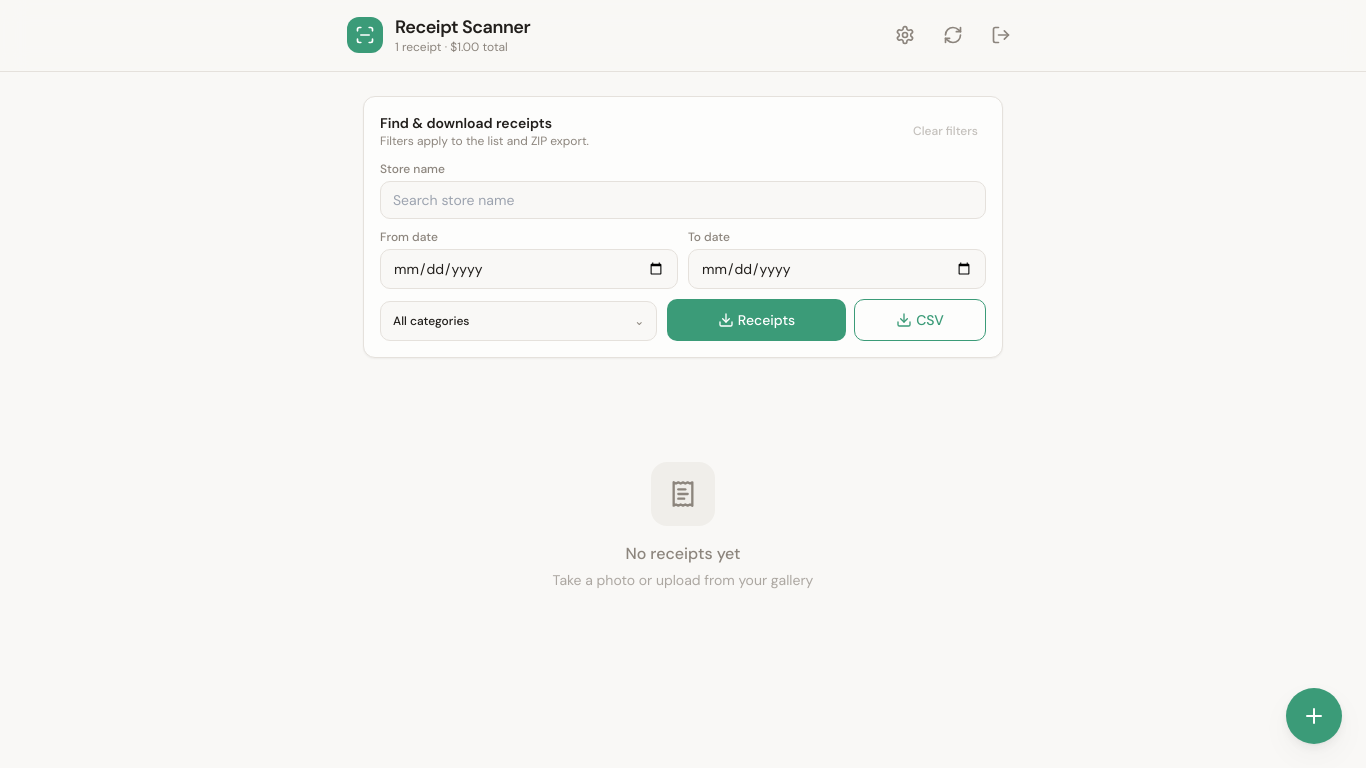
Test: Index receipt filters and export › uses a compact category dropdown for the shared filter
Click the heading named "Filter receipt categories" at (431, 320), box [380,300,657,340]
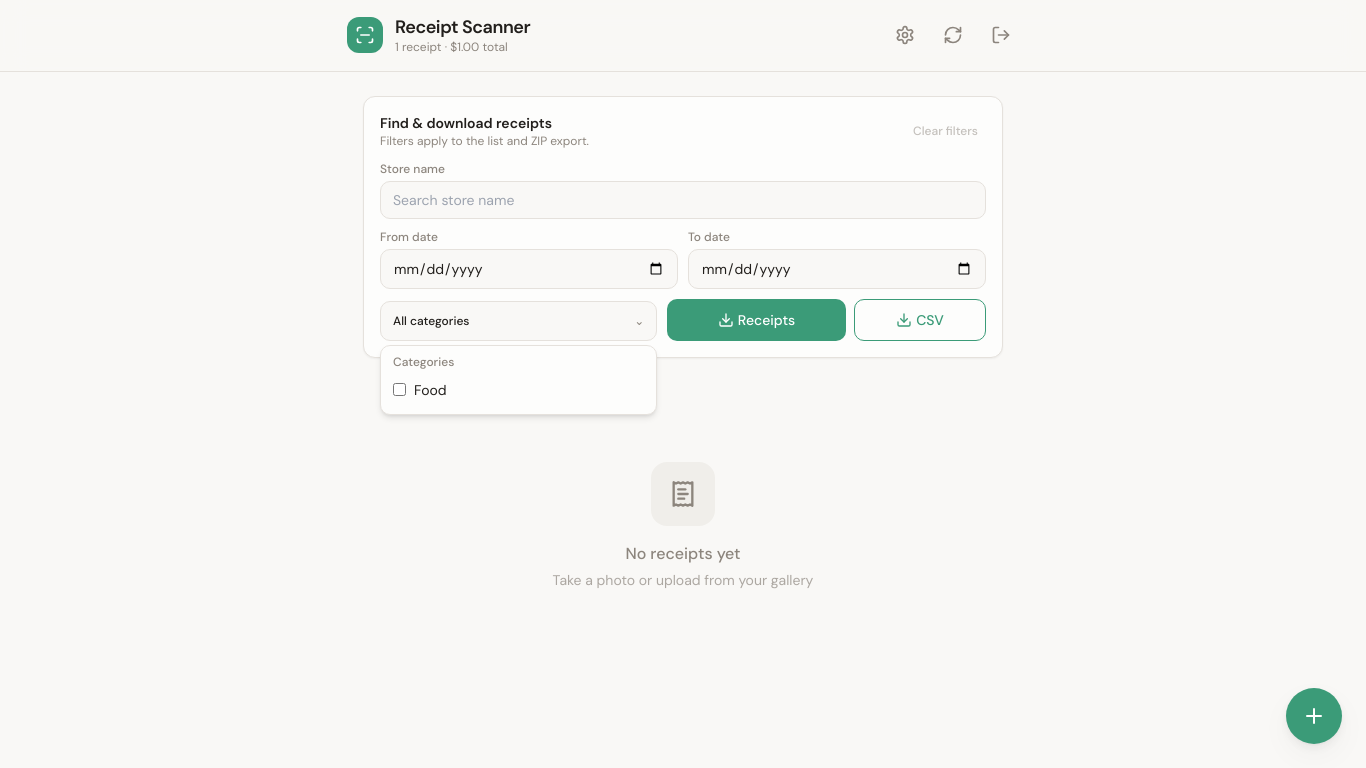
Click the checkbox labelled "Food" at (400, 390), box [393,383,406,396]
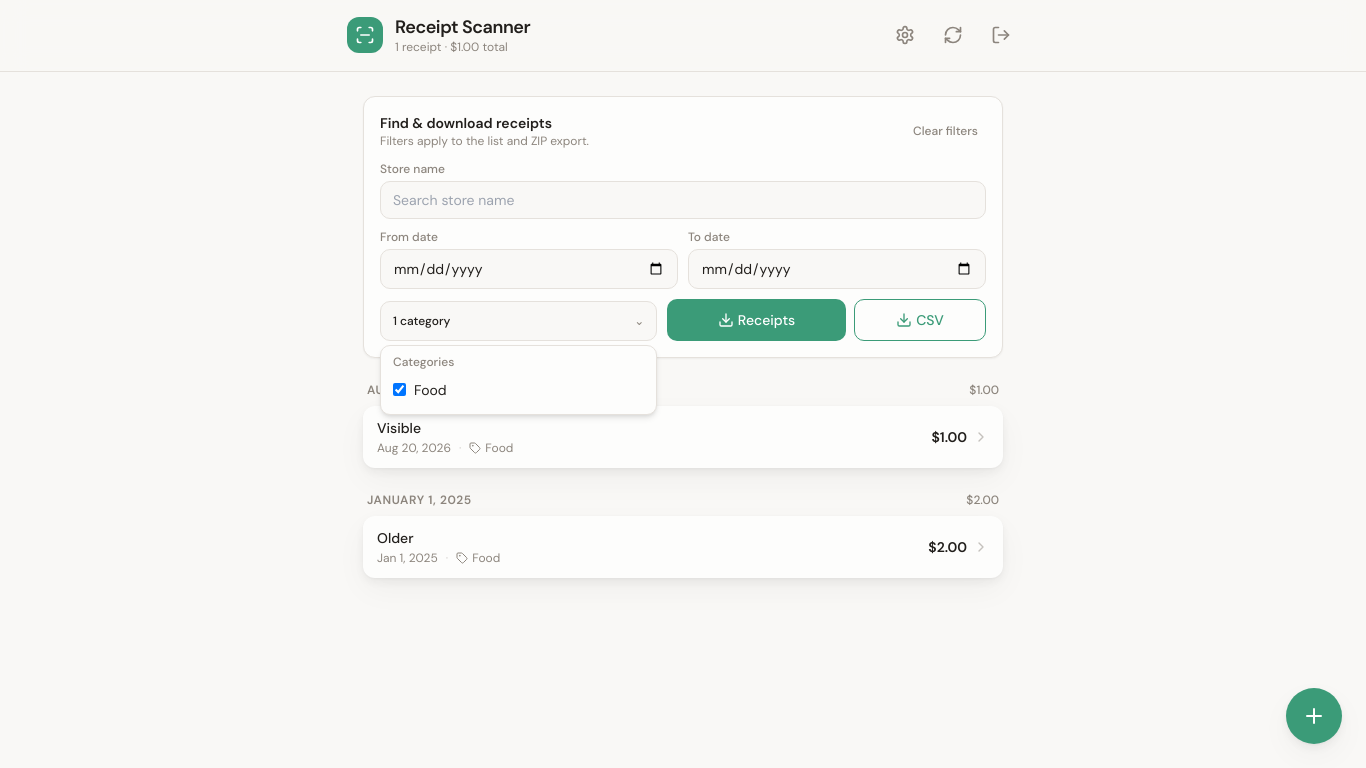
Expected: the heading named "Filter receipt categories" shows "1 category", [380,300,657,340]
